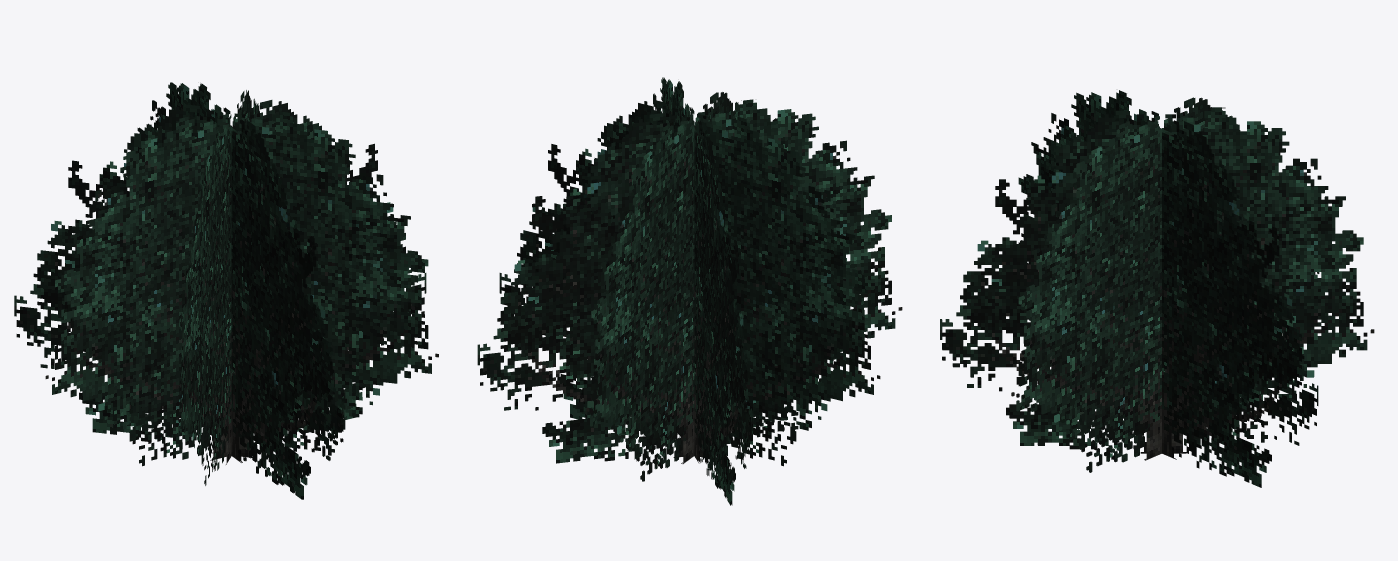
The model's file is bush08.glb.
3 renders of one model, left to right at view 1: azimuth 30°, elevation 25°; view 2: azimuth 150°, elevation 25°; view 3: azimuth 270°, elevation 25°, orthographic.
Visible parts, largest first — view 1: bush08; view 2: bush08; view 3: bush08.
Boxes of the visible parts, box(x1,y1,x2,y2) form: bush08: box(14, 82, 438, 499); bush08: box(477, 77, 902, 505); bush08: box(940, 90, 1374, 487).
Bounding box in the file's own units: 8.74 × 7.5 × 8.74.
1 material, 1 textured.
